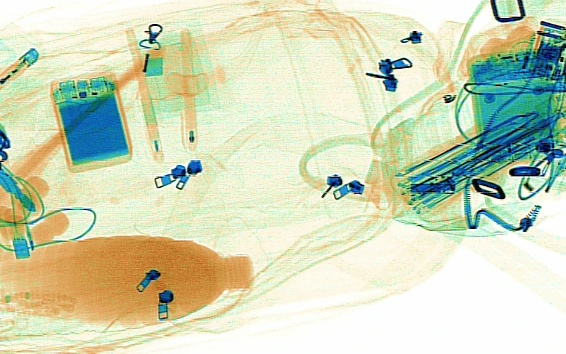lighter: (1, 45, 37, 92)
